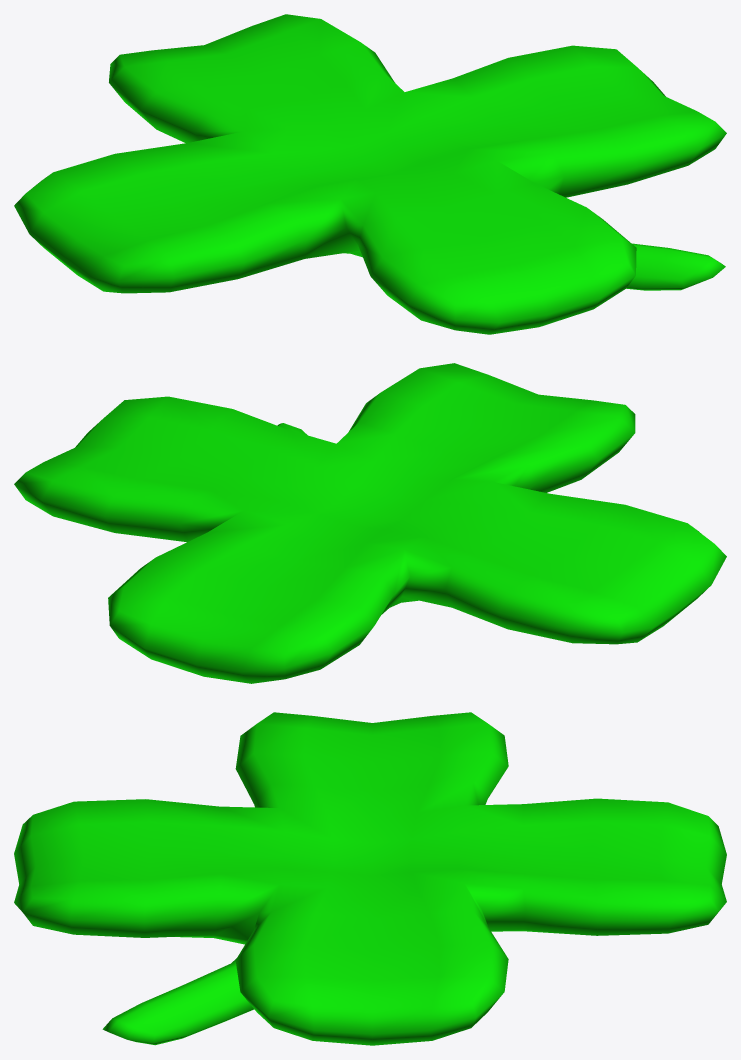
Rendered from TREFLE.fbx.
The picture shows the model from 3 angles, top to bottom: view 1: azimuth 30°, elevation 25°; view 2: azimuth 150°, elevation 25°; view 3: azimuth 270°, elevation 25°; orthographic projection.
Visible parts, largest first — view 1: Cube; view 2: Cube; view 3: Cube.
Part boxes in pixels (left/top/right/bottom): Cube: left=14, top=14, right=726, bottom=334; Cube: left=14, top=363, right=726, bottom=683; Cube: left=14, top=712, right=726, bottom=1045.
Size of the model in its own units: 586 by 94.71 by 580.
